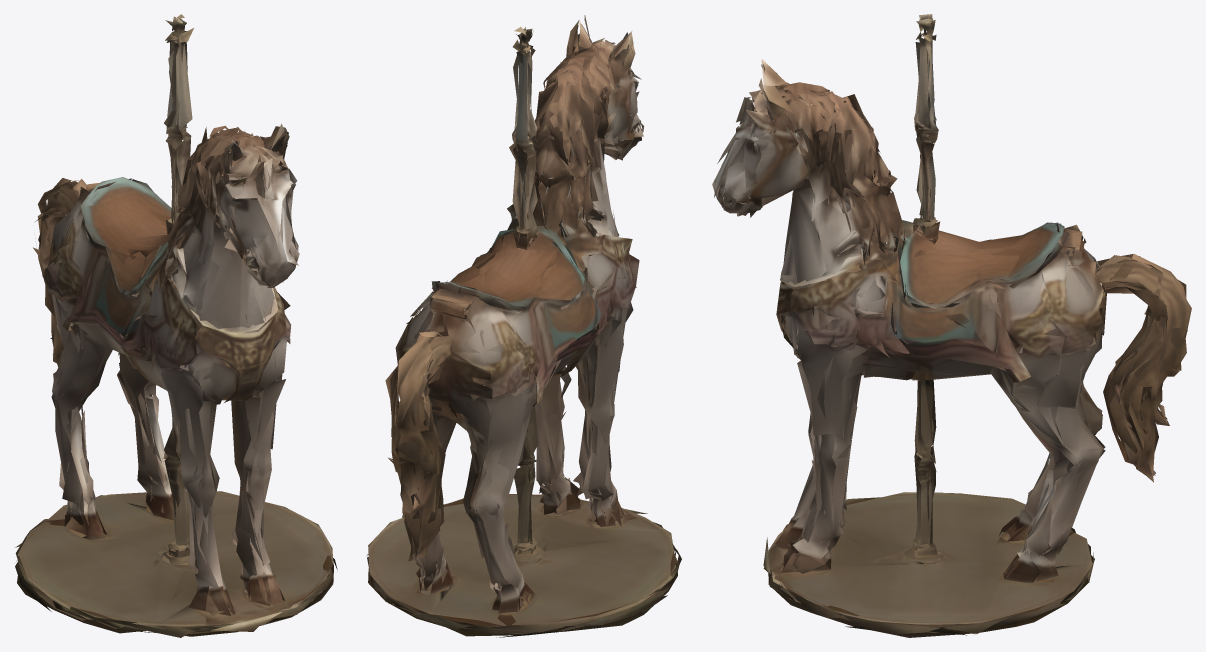
The model's file is unified--detail--carousel-horse.glb.
3 renders of one model, left to right at view 1: azimuth 30°, elevation 25°; view 2: azimuth 150°, elevation 25°; view 3: azimuth 270°, elevation 25°, orthographic. The views are drawn at different scales.
Parts seen in each view (by area): view 1: carousel-horse-1; view 2: carousel-horse-1; view 3: carousel-horse-1.
Part boxes in pixels (x1,y1,x2,y2): carousel-horse-1: [15, 14, 337, 637]; carousel-horse-1: [367, 15, 681, 637]; carousel-horse-1: [712, 14, 1191, 637].
Size of the model in its own units: 0.2553 by 0.4796 by 0.3744.
1 material, 1 textured.
